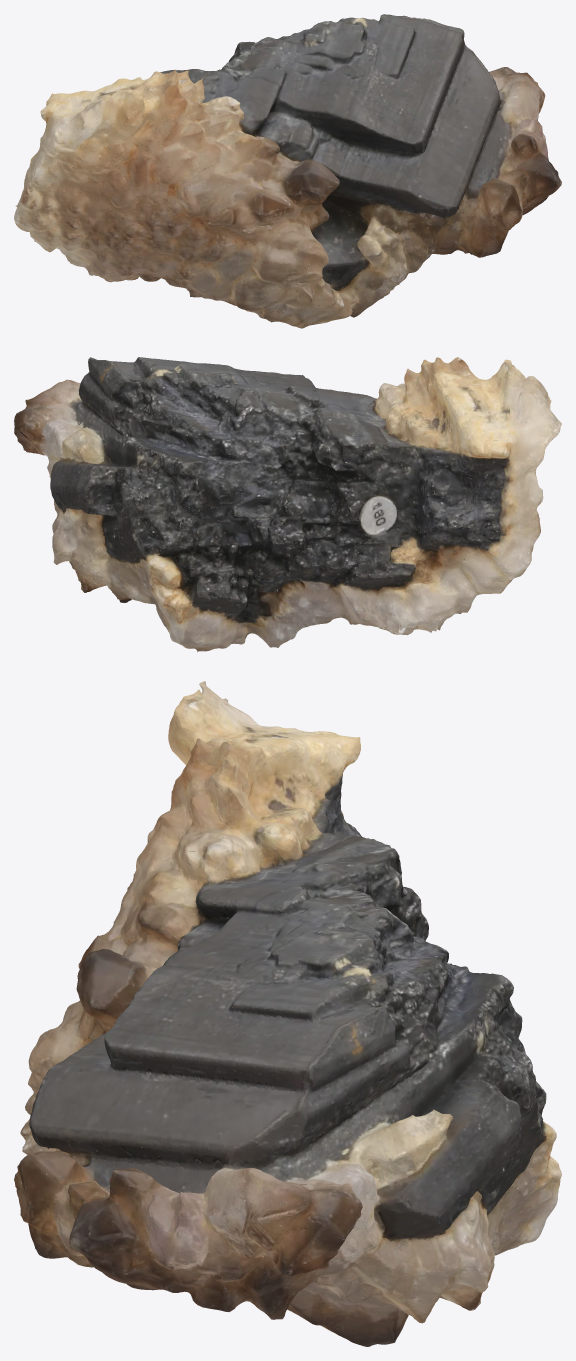
File: smoky_quartz.glb
3 views of the same model, one above another, from view 1: azimuth 30°, elevation 25°; view 2: azimuth 150°, elevation 25°; view 3: azimuth 270°, elevation 25° (orthographic). The views are drawn at different scales.
Visible parts, largest first — view 1: Object_7, Object_2, Object_3, Object_4, Object_5; view 2: Object_2, Object_3, Object_4, Object_7, Object_5; view 3: Object_3, Object_7, Object_2, Object_6, Object_5, Object_4.
Boxes of the visible parts, <box> form: Object_7: <box>31,18,556,308</box>; Object_2: <box>21,14,559,328</box>; Object_3: <box>14,14,561,317</box>; Object_4: <box>14,19,556,319</box>; Object_5: <box>27,51,561,322</box>; Object_2: <box>22,357,559,630</box>; Object_3: <box>14,357,561,646</box>; Object_4: <box>14,359,560,652</box>; Object_7: <box>33,357,554,557</box>; Object_5: <box>14,364,548,641</box>; Object_3: <box>14,687,560,1344</box>; Object_7: <box>18,681,491,1301</box>; Object_2: <box>14,682,558,1307</box>; Object_6: <box>29,687,539,1346</box>; Object_5: <box>15,736,561,1335</box>; Object_4: <box>14,695,561,1346</box>.
Bounding box in the file's own units: 3.73 × 1.87 × 2.24.
Materials: 6 (6 with a texture image).
